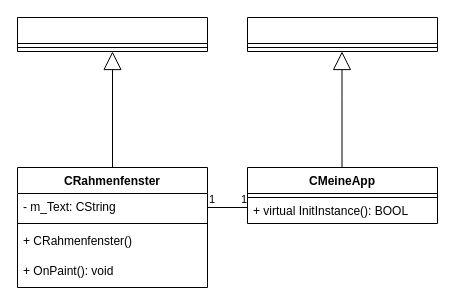
Some shapes in this 455 by 308 pixel diagram are drawn without their labels. Here are the shapes that lost their labels. From the top down, the centre of each, then its label:
point (112, 34): CFrameWnd
point (342, 34): CWinApp
